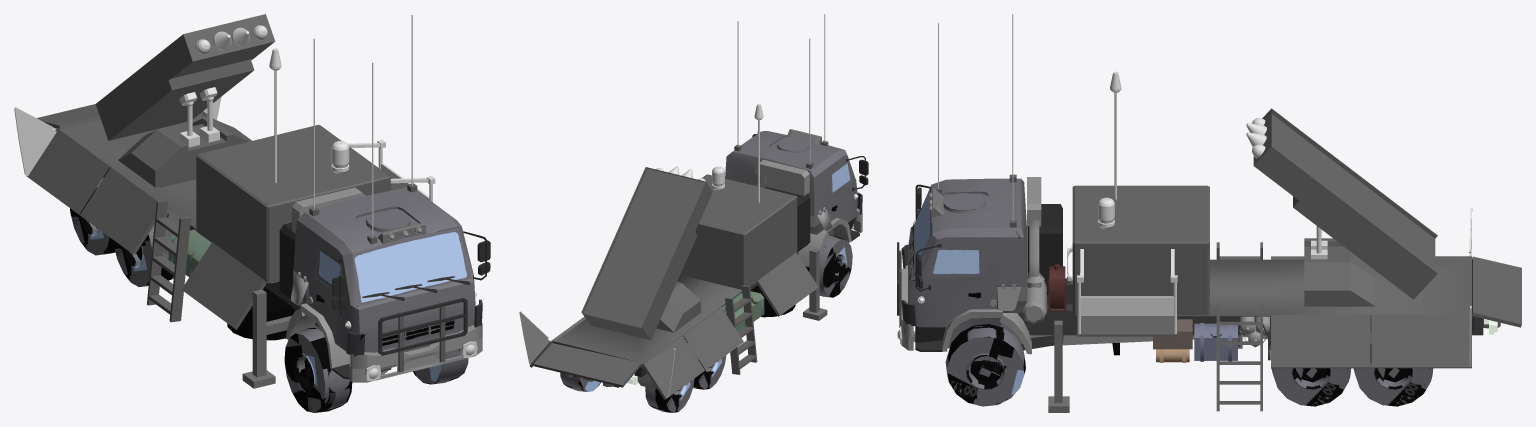
Rendered from cornerboard-not-deployed.fbx.
The picture shows the model from 3 angles, left to right: view 1: azimuth 30°, elevation 25°; view 2: azimuth 150°, elevation 25°; view 3: azimuth 270°, elevation 25°; orthographic projection. The views are drawn at different scales.
Parts seen in each view (by area): view 1: Куб.131, Куб.136, Cube, Cube.002, Цилиндр.051, Cube.001, Cube.008, Куб.096, Cube.016, Cube.011, Cube.007, Цилиндр.053 (+17 smaller); view 2: Cube.002, Куб.136, Cube, Куб.131, Цилиндр.051, Cube.008, Цилиндр.059, Цилиндр.001, Cube.001, Cube.015, Cube.011, Cube.010 (+6 smaller); view 3: Куб.136, Cube, Куб.131, Cube.002, Цилиндр.051, Cube.001, Цилиндр.001, Цилиндр.053, Куб.118, Цилиндр.059, Cube.018, Cube.015 (+12 smaller).
Part boxes in pixels (x1=…): Куб.131: x1=293, y1=187, x2=482, y2=369; Куб.136: x1=26, y1=104, x2=279, y2=329; Cube: x1=196, y1=124, x2=390, y2=283; Cube.002: x1=95, y1=14, x2=275, y2=140; Цилиндр.051: x1=284, y1=327, x2=468, y2=412; Cube.001: x1=118, y1=117, x2=251, y2=187; Cube.008: x1=147, y1=200, x2=190, y2=322; Куб.096: x1=349, y1=323, x2=482, y2=382; Cube.016: x1=242, y1=289, x2=291, y2=388; Cube.011: x1=14, y1=107, x2=56, y2=175; Cube.007: x1=378, y1=297, x2=467, y2=355; Цилиндр.053: x1=113, y1=225, x2=173, y2=286; Cube.002: x1=581, y1=167, x2=712, y2=339; Куб.136: x1=529, y1=252, x2=818, y2=399; Cube: x1=680, y1=174, x2=797, y2=289; Куб.131: x1=725, y1=131, x2=862, y2=252; Цилиндр.051: x1=805, y1=235, x2=852, y2=297; Cube.008: x1=725, y1=285, x2=757, y2=374; Цилиндр.059: x1=754, y1=159, x2=809, y2=195; Цилиндр.001: x1=560, y1=372, x2=694, y2=412; Cube.001: x1=656, y1=282, x2=700, y2=332; Cube.015: x1=765, y1=187, x2=810, y2=251; Cube.011: x1=645, y1=348, x2=675, y2=397; Cube.010: x1=519, y1=311, x2=550, y2=364; Куб.136: x1=1077, y1=256, x2=1521, y2=368; Cube: x1=1072, y1=185, x2=1209, y2=315; Куб.131: x1=901, y1=178, x2=1026, y2=348; Cube.002: x1=1253, y1=108, x2=1437, y2=299; Цилиндр.051: x1=945, y1=324, x2=1025, y2=406; Cube.001: x1=1304, y1=238, x2=1374, y2=306; Цилиндр.001: x1=1353, y1=331, x2=1433, y2=406; Цилиндр.053: x1=1271, y1=368, x2=1351, y2=406; Куб.118: x1=1018, y1=278, x2=1483, y2=350; Цилиндр.059: x1=1021, y1=177, x2=1046, y2=323; Cube.018: x1=1080, y1=296, x2=1174, y2=315; Cube.015: x1=1027, y1=204, x2=1062, y2=294.
Bounding box in the file's own units: 750 × 1202 × 2012.
Materials: 66 (2 with a texture image).
